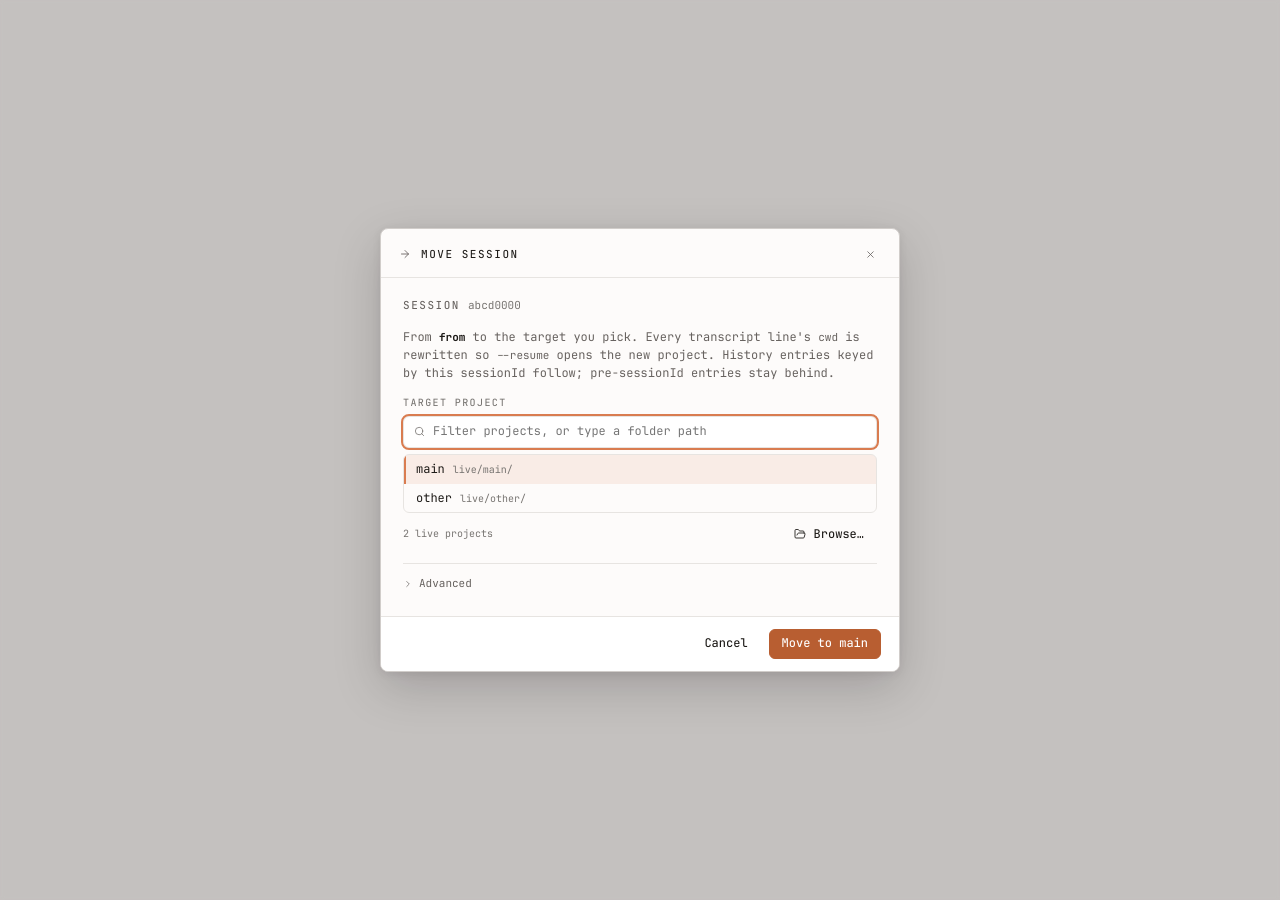
Test: MoveSessionModal › an existing folder submits without asking to create it
The image size is (1280, 900).
Type "/already/there" into the dropdown. click: {"x": 650, "y": 432}
box: [433,423,866,440]
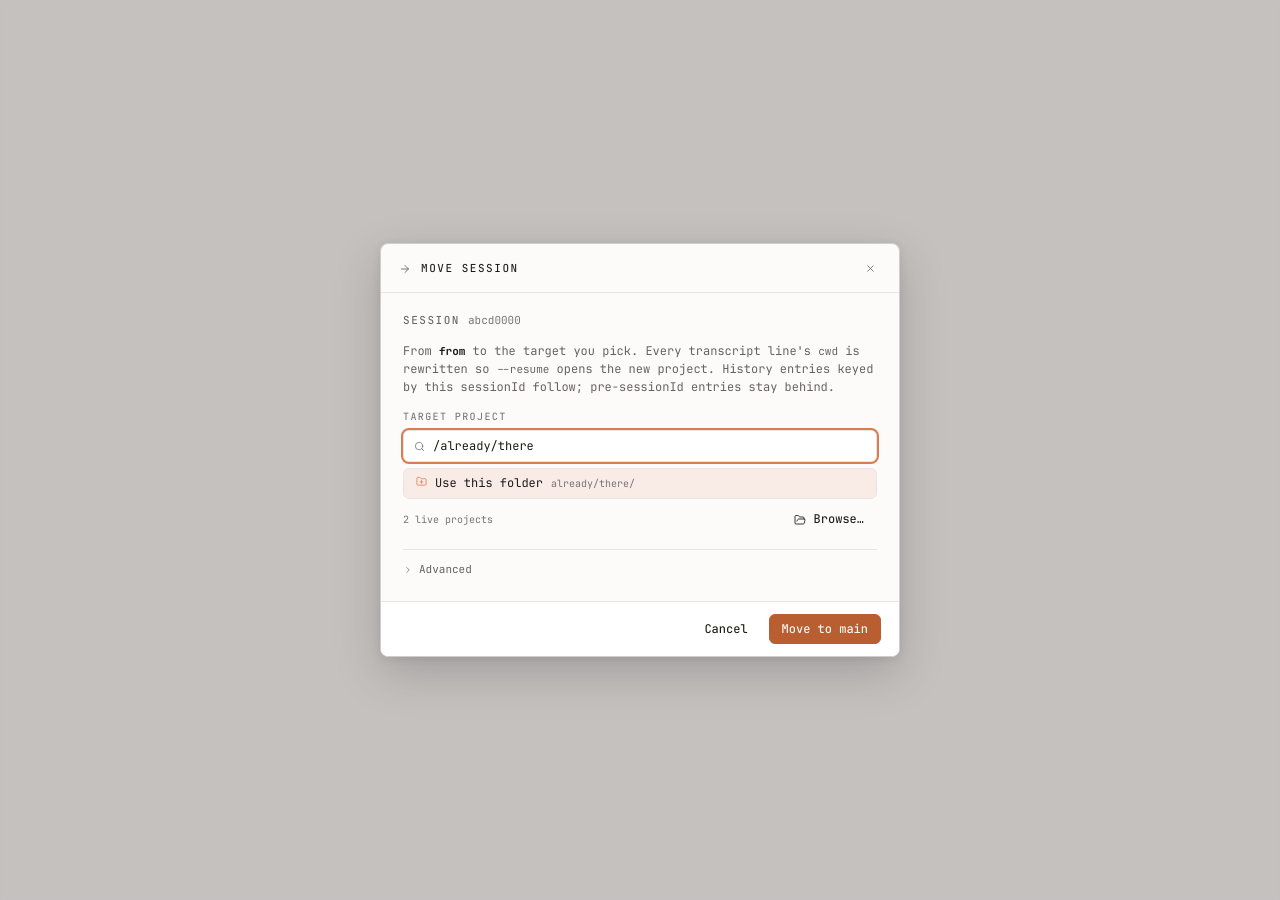
Click the option "Use this folder /already/there". click: {"x": 489, "y": 483}
box: [404,469,876,498]
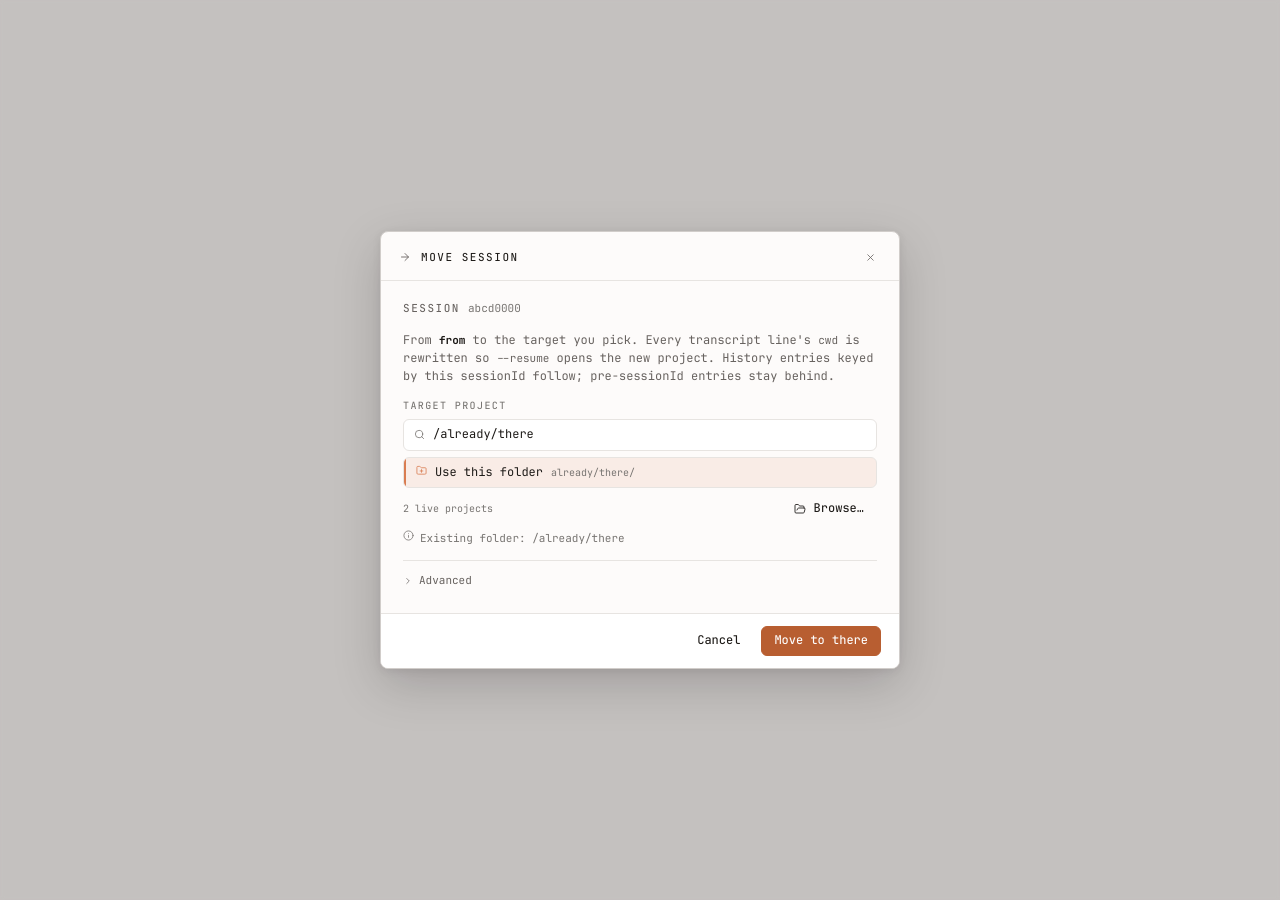
Expected: the button "Move to there" is enabled, [761,626,881,656]
Now the text "Existing folder: /already/there" is shown, box [420,531,625,545]
